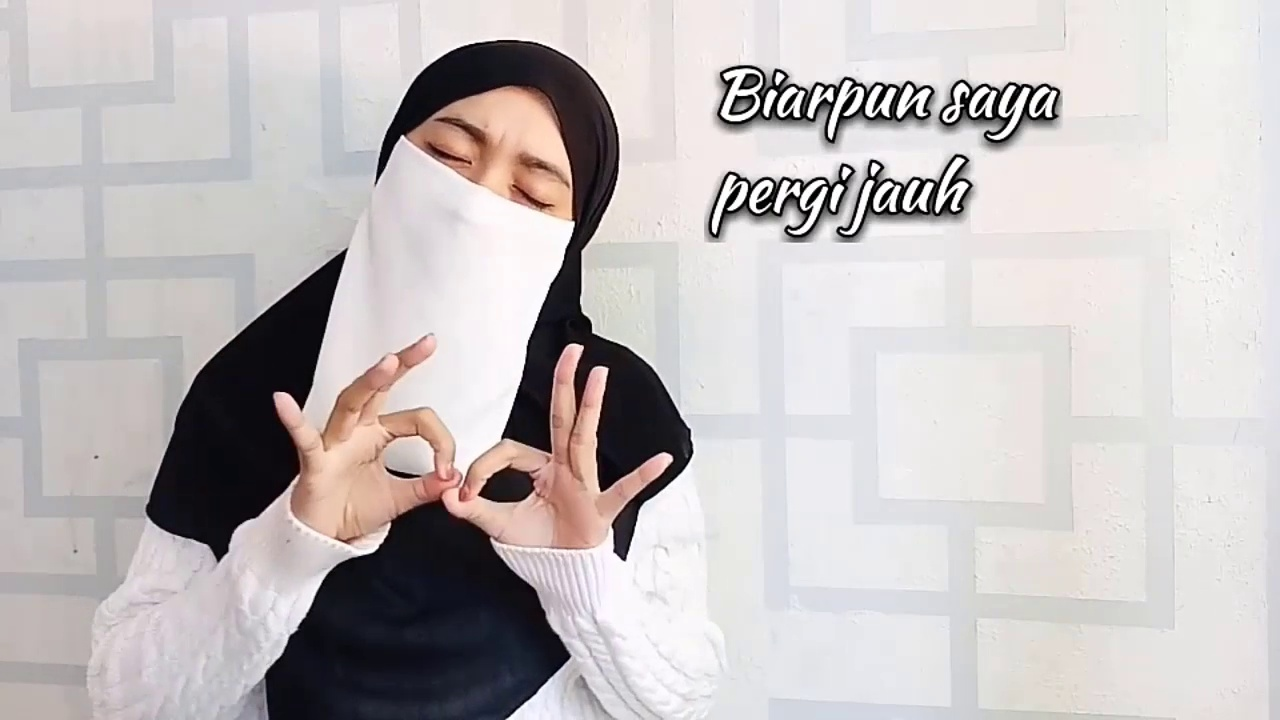JAUH: (263, 331, 678, 556)
